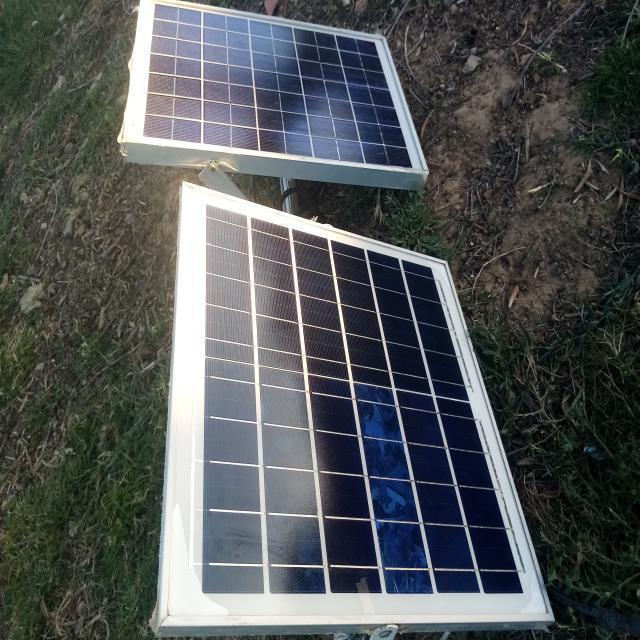Normal Solar Panel: (162, 185, 551, 619), (126, 6, 429, 168)
